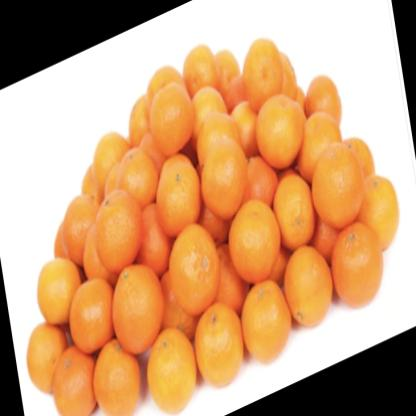fresh: (23, 35, 403, 416)
